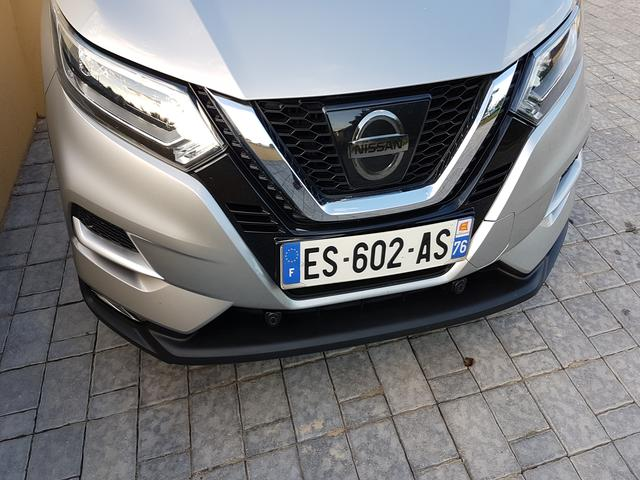Quashquai: (257, 200, 488, 306)
